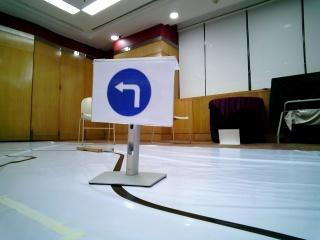left: (96, 64, 165, 127)
